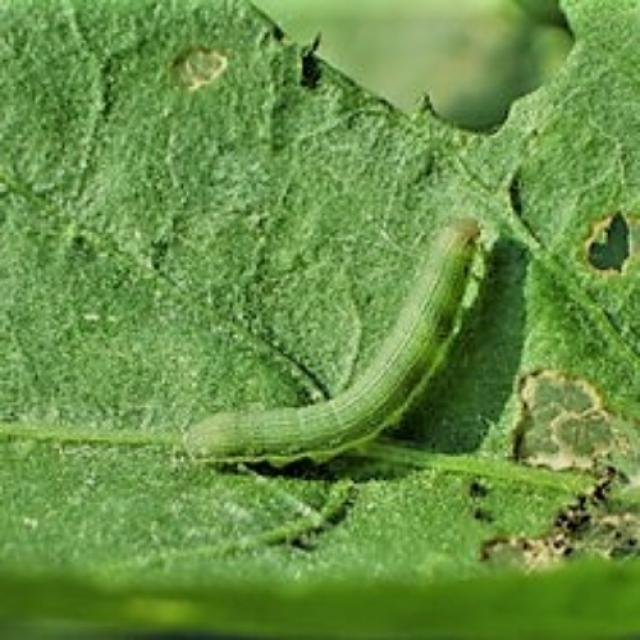armyworm: (181, 212, 491, 468)
